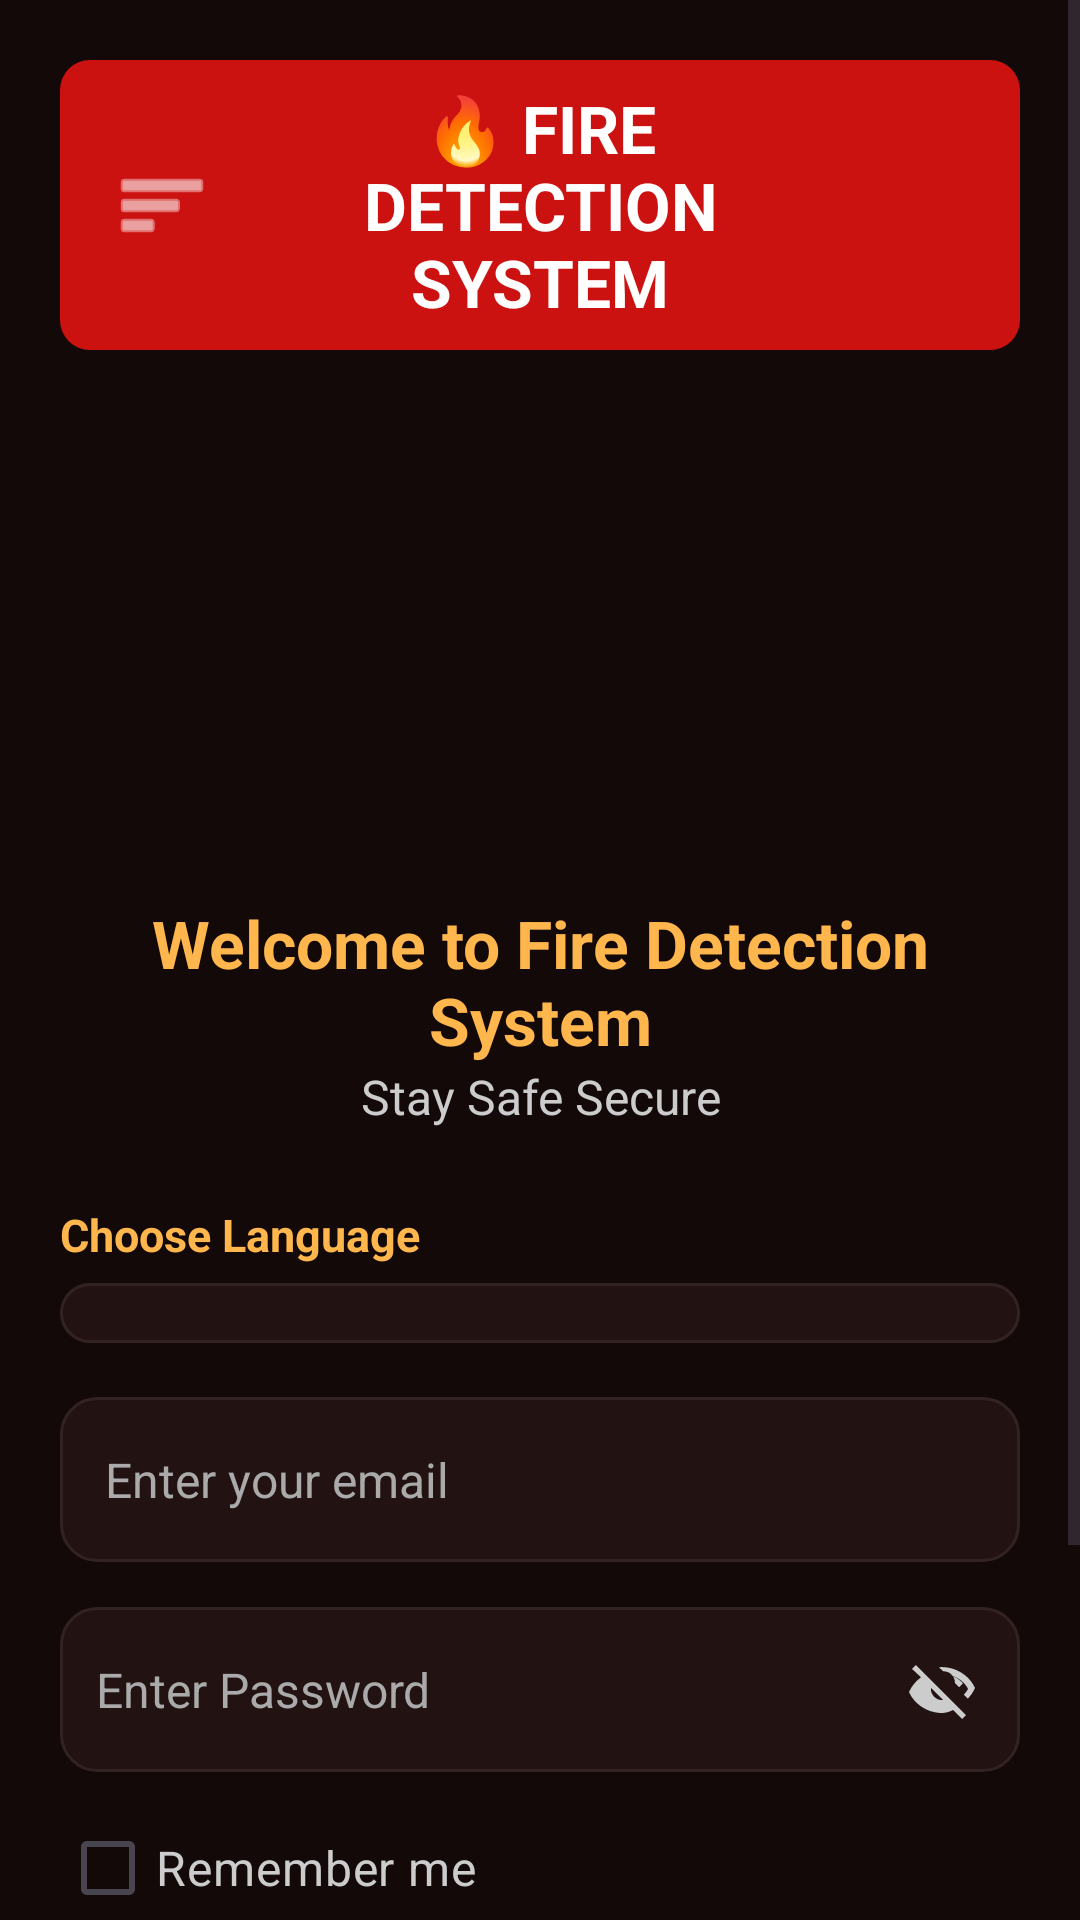

Where to tap for icons on this 1080x1920 app screen, as [x,y]:
Open menu: [162,205]
Visibility off: [942,1692]
